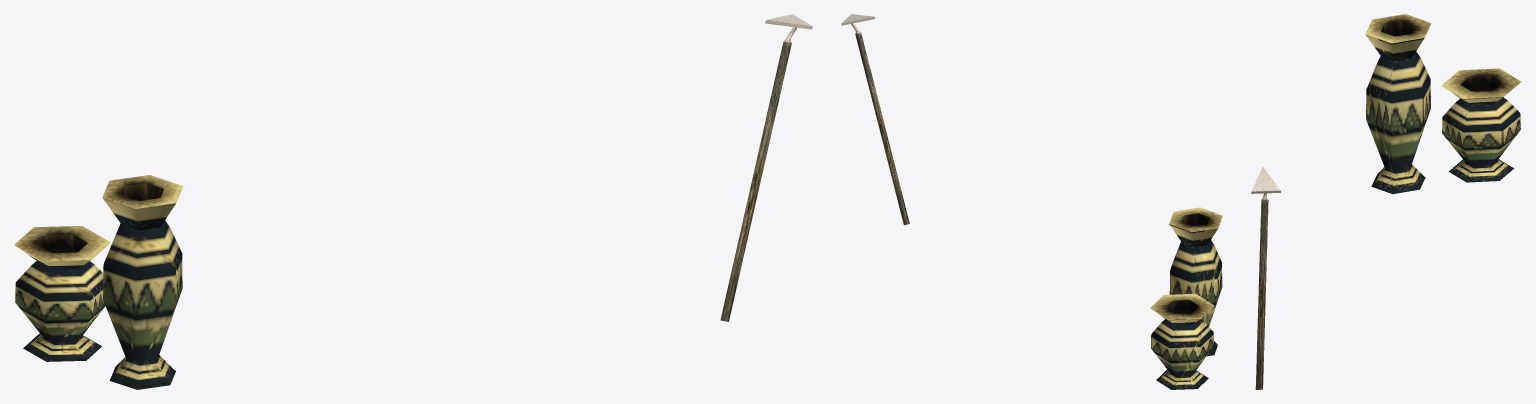
File: kart_farmstead_a_1.dae
3 renders of one model, left to right at view 1: azimuth 30°, elevation 25°; view 2: azimuth 150°, elevation 25°; view 3: azimuth 270°, elevation 25°, orthographic. The views are drawn at different scales.
Visible parts, largest first — view 1: Object11-Pivot; view 2: Object11-Pivot; view 3: Object11-Pivot.
Part boxes in pixels (x1,y1,x2,y2): Object11-Pivot: [14, 14, 812, 389]; Object11-Pivot: [841, 14, 1222, 389]; Object11-Pivot: [1251, 14, 1521, 389].
Size of the model in its own units: 7.2 by 3.11 by 3.05.
